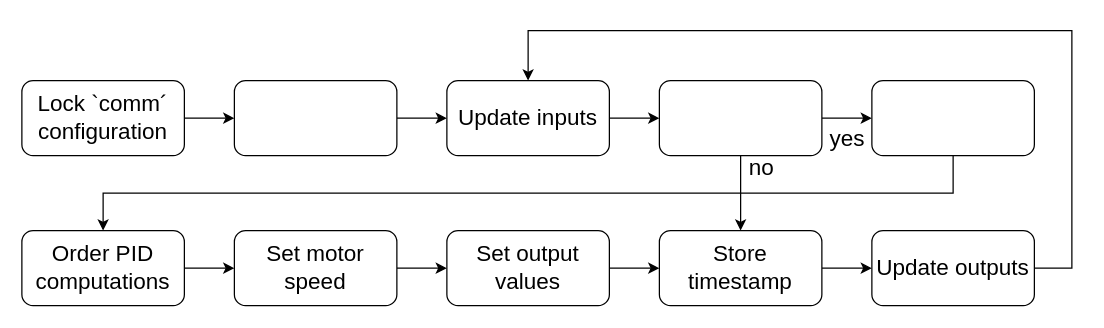
The diagram is 1104 pixels wide and 328 high, and some of its shapes have lost their labels. Here are the shapes that lost their labels. From the top down, the box of each, then its label:
(233, 79, 397, 156): Acquire current timestamp
(658, 79, 822, 156): Comm OK And Enabled?
(871, 79, 1034, 156): Move values around
